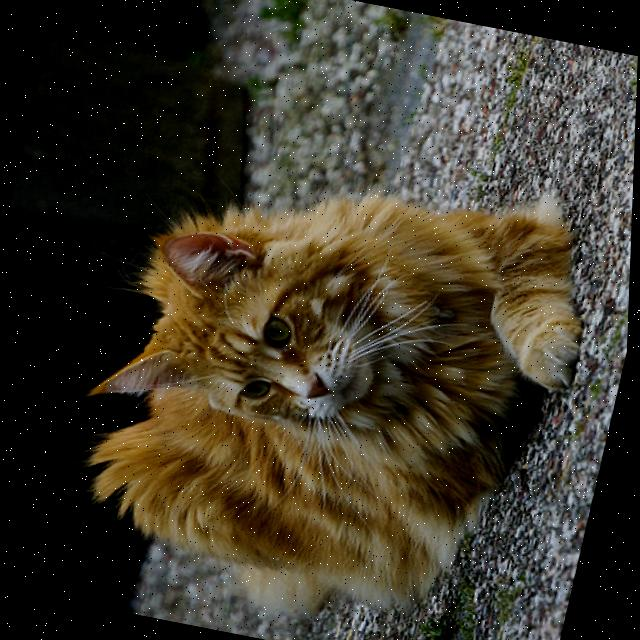Maine Coon: (46, 115, 617, 640)
